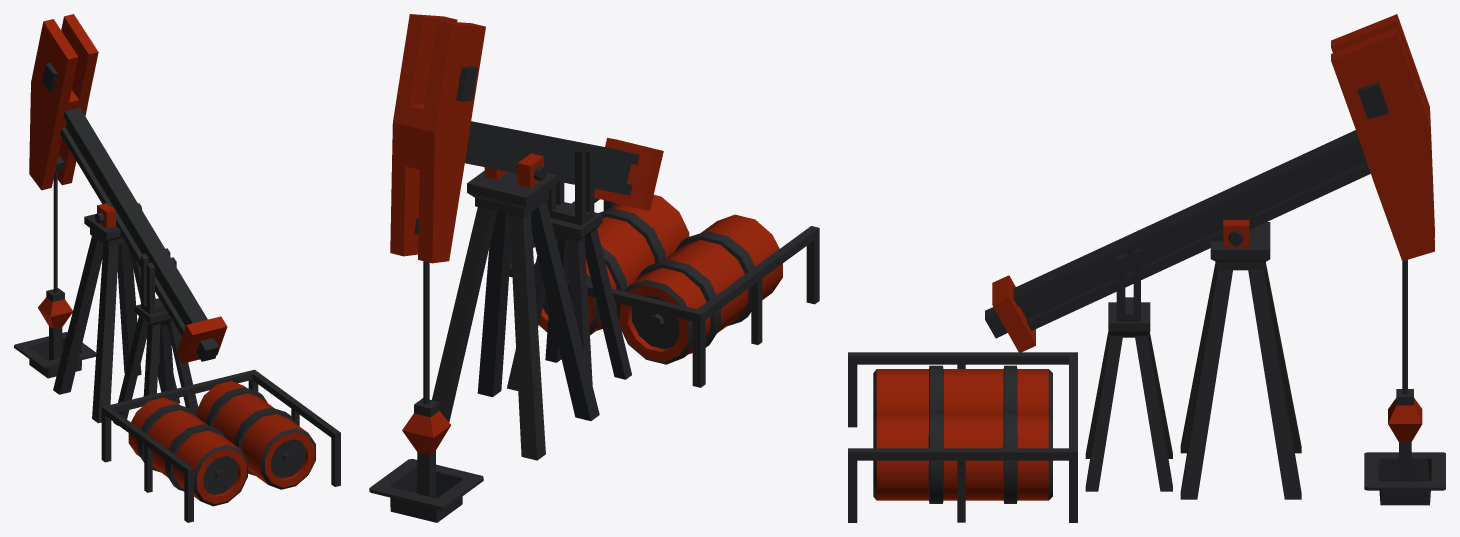
The model's file is OilPump.fbx.
The picture shows the model from 3 angles, left to right: view 1: azimuth 30°, elevation 25°; view 2: azimuth 150°, elevation 25°; view 3: azimuth 270°, elevation 25°; orthographic projection. The views are drawn at different scales.
Parts seen in each view (by area): view 1: OilPump; view 2: OilPump; view 3: OilPump.
Boxes of the visible parts, box(x1,y1,x2,y2) form: OilPump: box(14, 14, 340, 522); OilPump: box(369, 14, 819, 522); OilPump: box(848, 14, 1445, 522).
Bounding box in the file's own units: 117 × 258 × 298.
